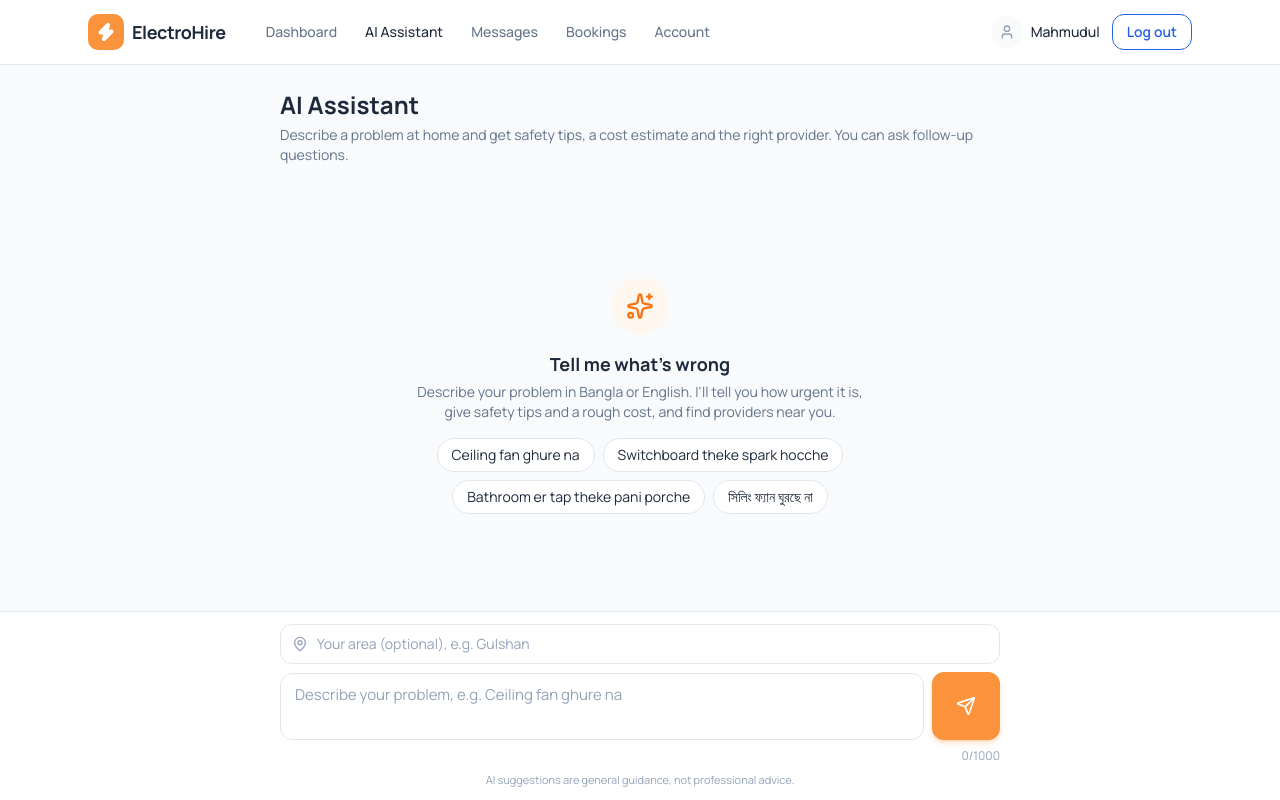
Test case: AssistantPage › sends the problem and area, then shows the analysis and providers
The image size is (1280, 800).
In the field labelled "Your area (optional), e.g. Gulshan": (640, 644) [280,624,1000,664], type "Gulshan"
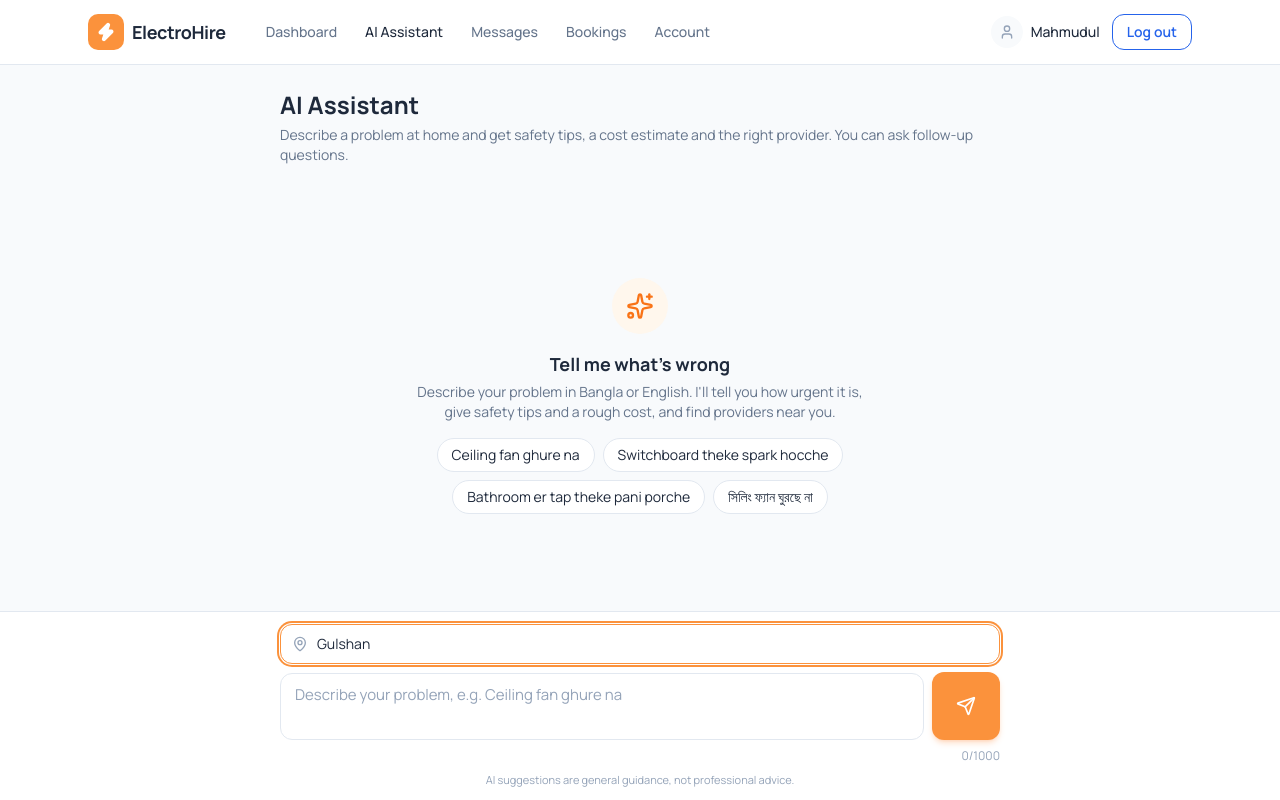
In the text box labelled "Describe your problem, e.g. Ceiling fan ghure na": (602, 706) [280,672,924,740], type "  Ceiling fan ghure na  "
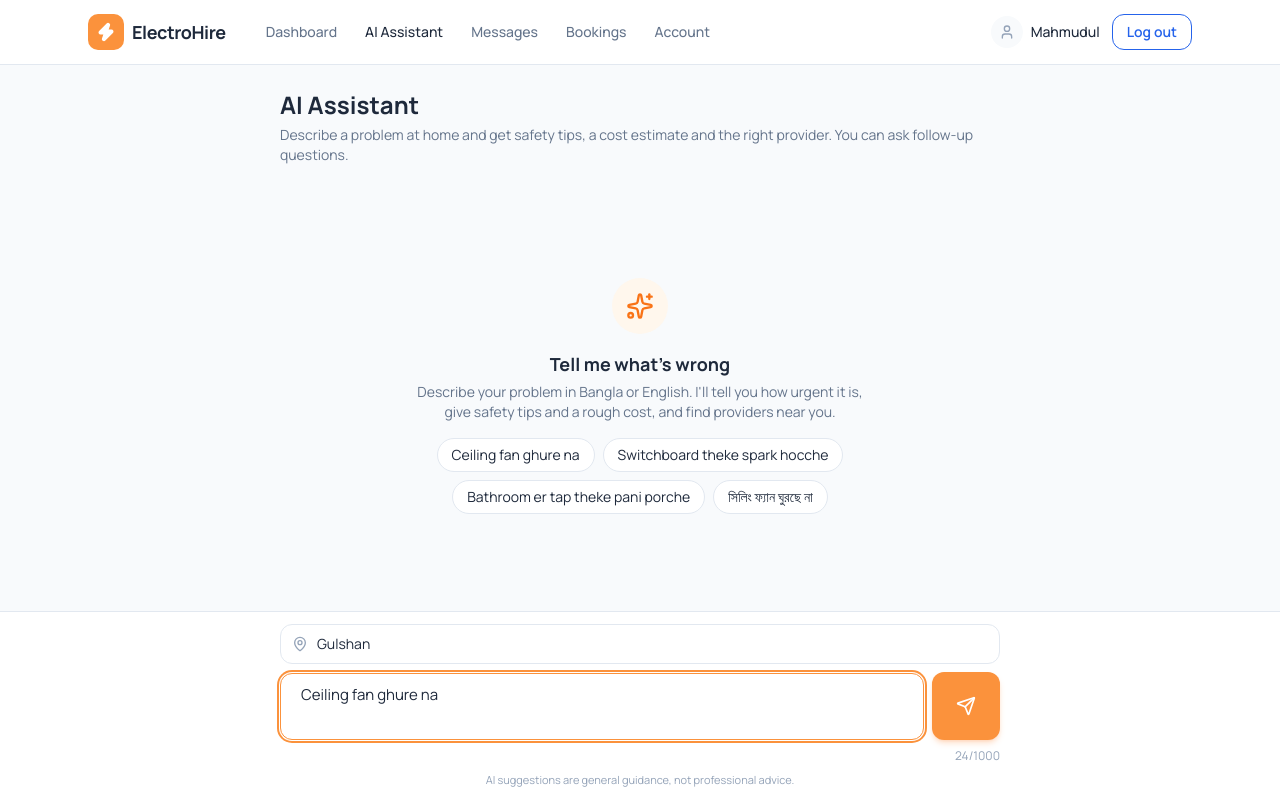
Click the button named "send": (966, 706) [932,672,1000,740]
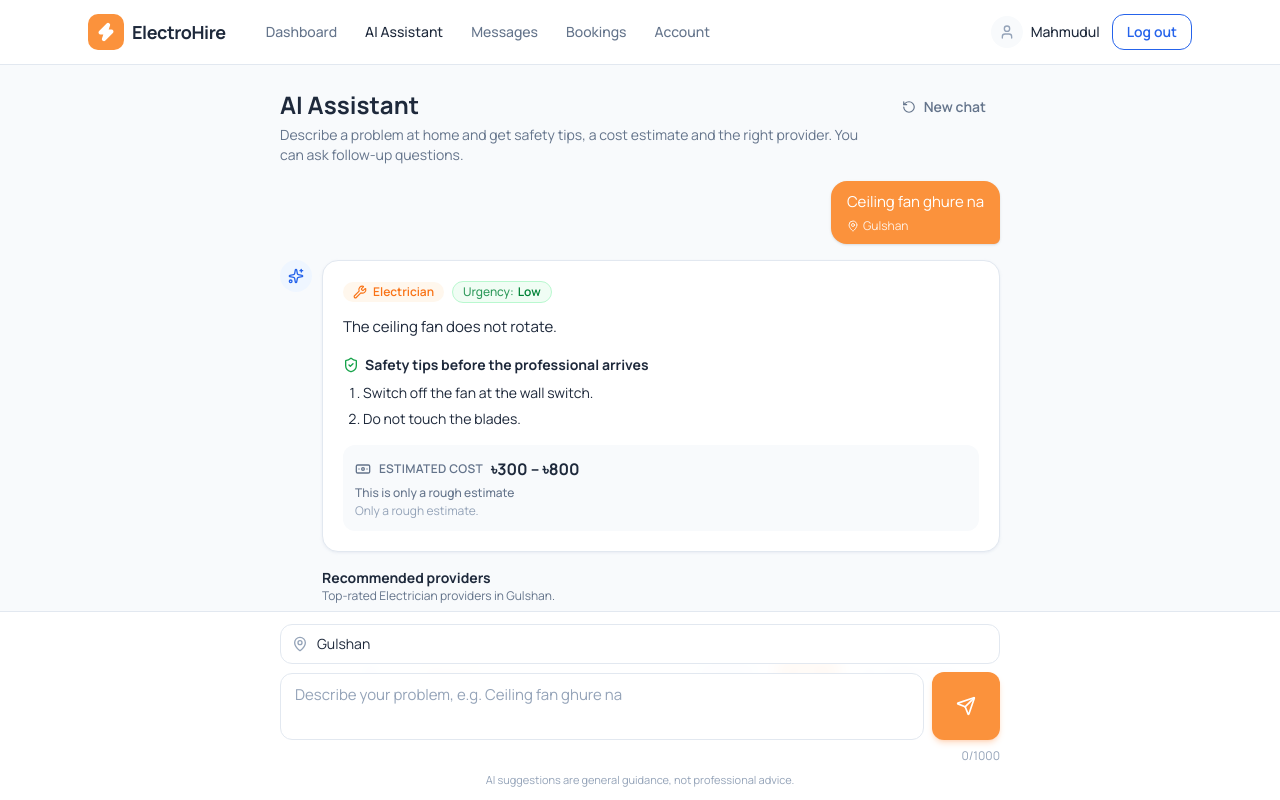
Expected: the text "The ceiling fan does not rotate." is shown, [343,316,557,336]
Expected: the text "Electrician" is shown, [343,282,444,302]
Expected: the text "Urgency:" is shown, [463,284,514,300]
